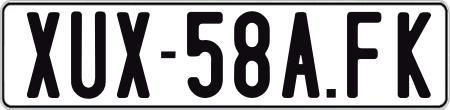5: (184, 10, 226, 99)
8: (232, 8, 274, 95)
A: (279, 10, 317, 96)
F: (346, 10, 383, 100)
K: (396, 10, 434, 100)
U: (70, 11, 108, 104)
X: (115, 12, 150, 100), (24, 11, 58, 101)
